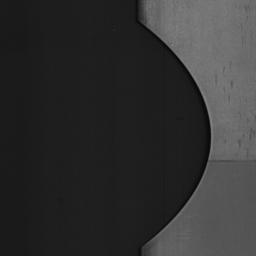Crescent gap: (145, 25, 211, 241)
